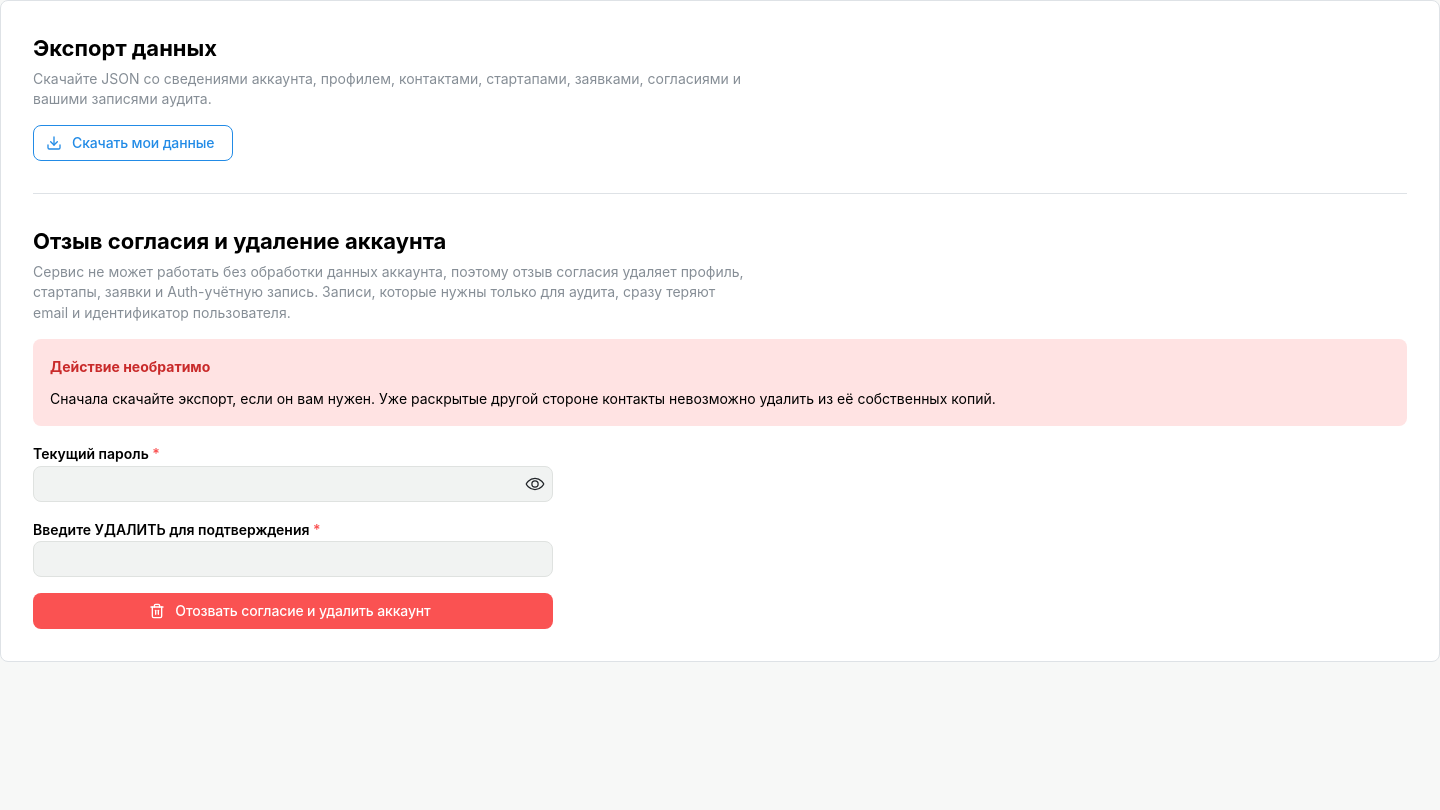
Test: PrivacyControls › offers an export and requires explicit deletion inputs
Type "password-value" into the password field named "current_password" at point(293, 484), box [34,467,552,501]
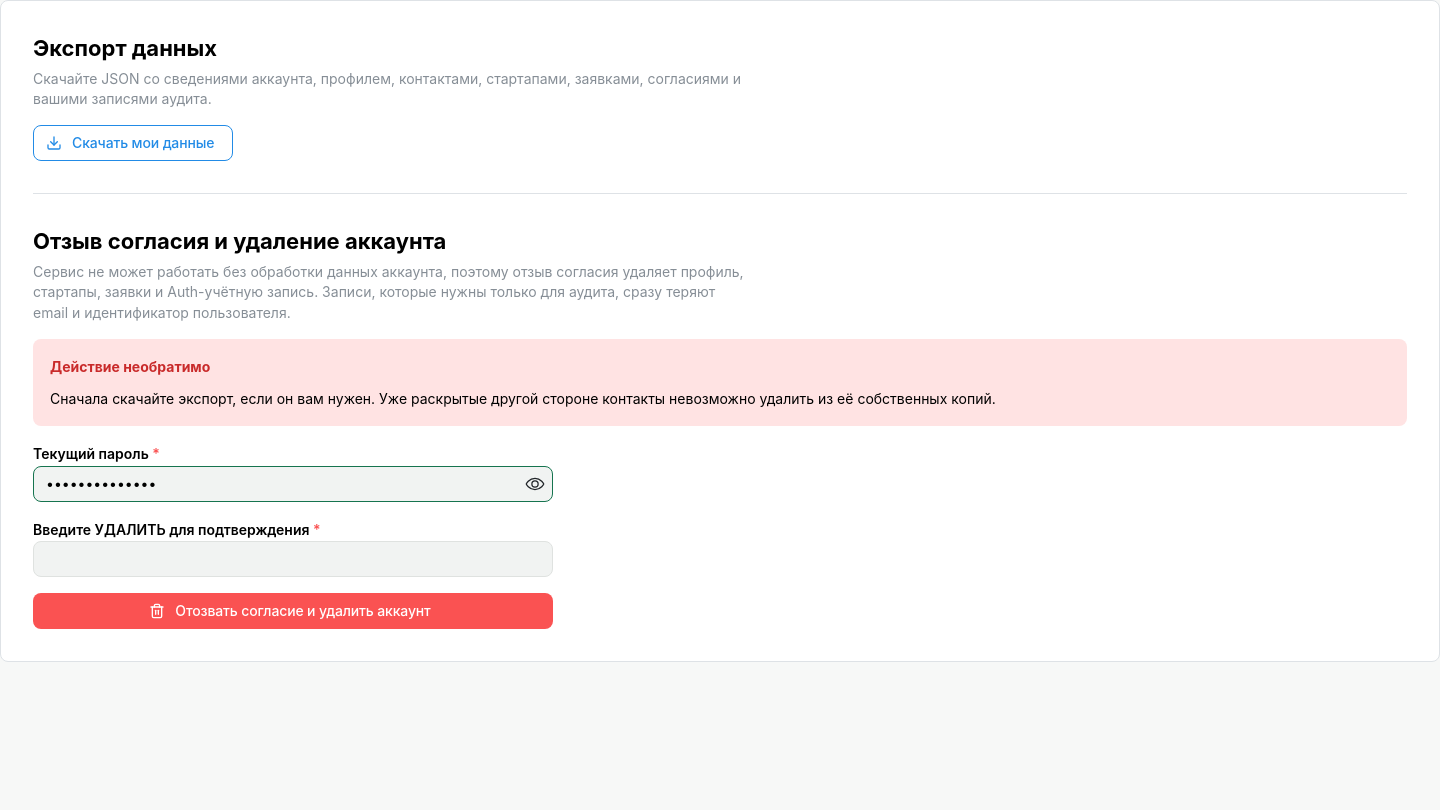
Type "УДАЛИТЬ" into the field labelled "Введите УДАЛИТЬ для подтверждения" at point(293, 559), box [33,541,553,577]
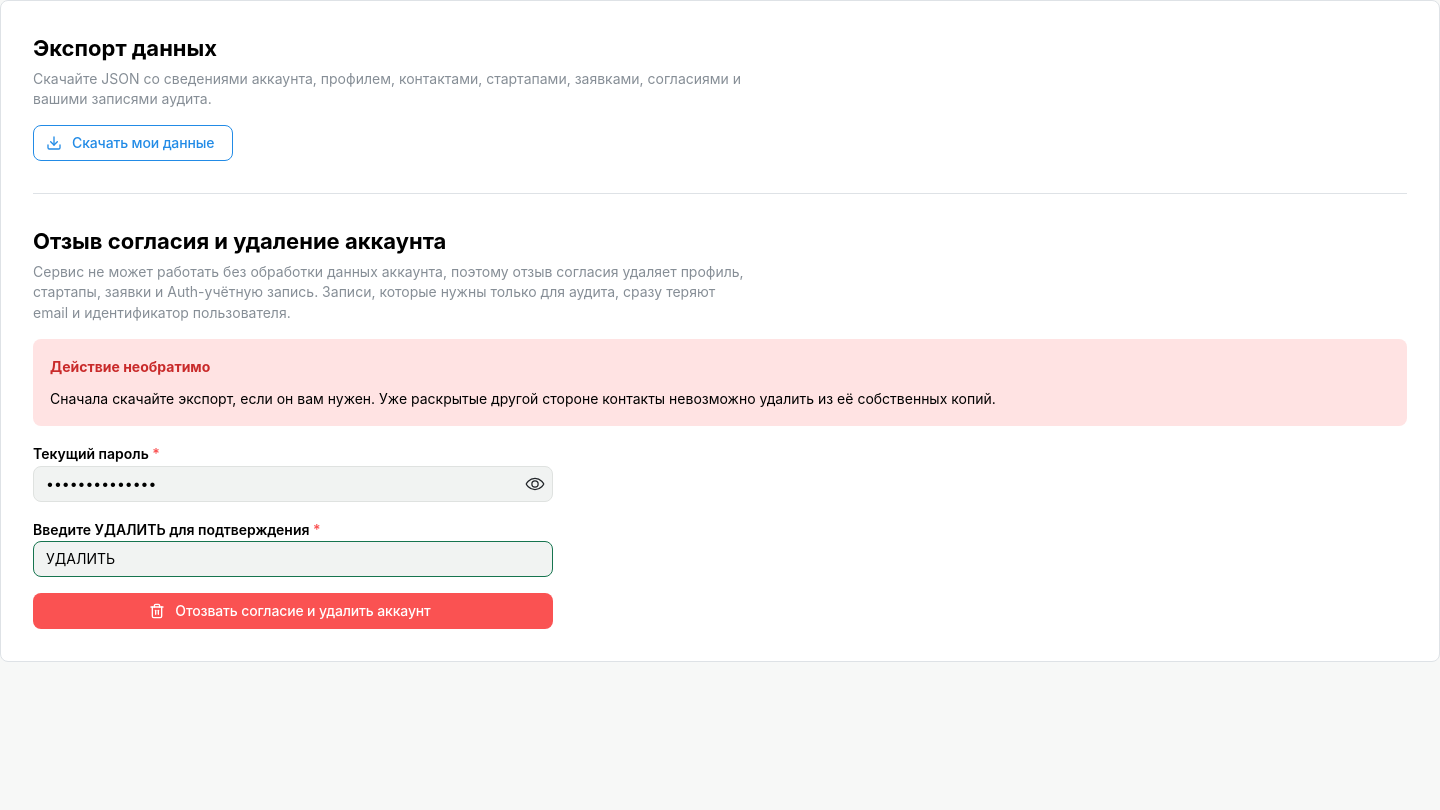
Click the button "Отозвать согласие и удалить аккаунт" at point(293, 611), box [33,593,553,629]
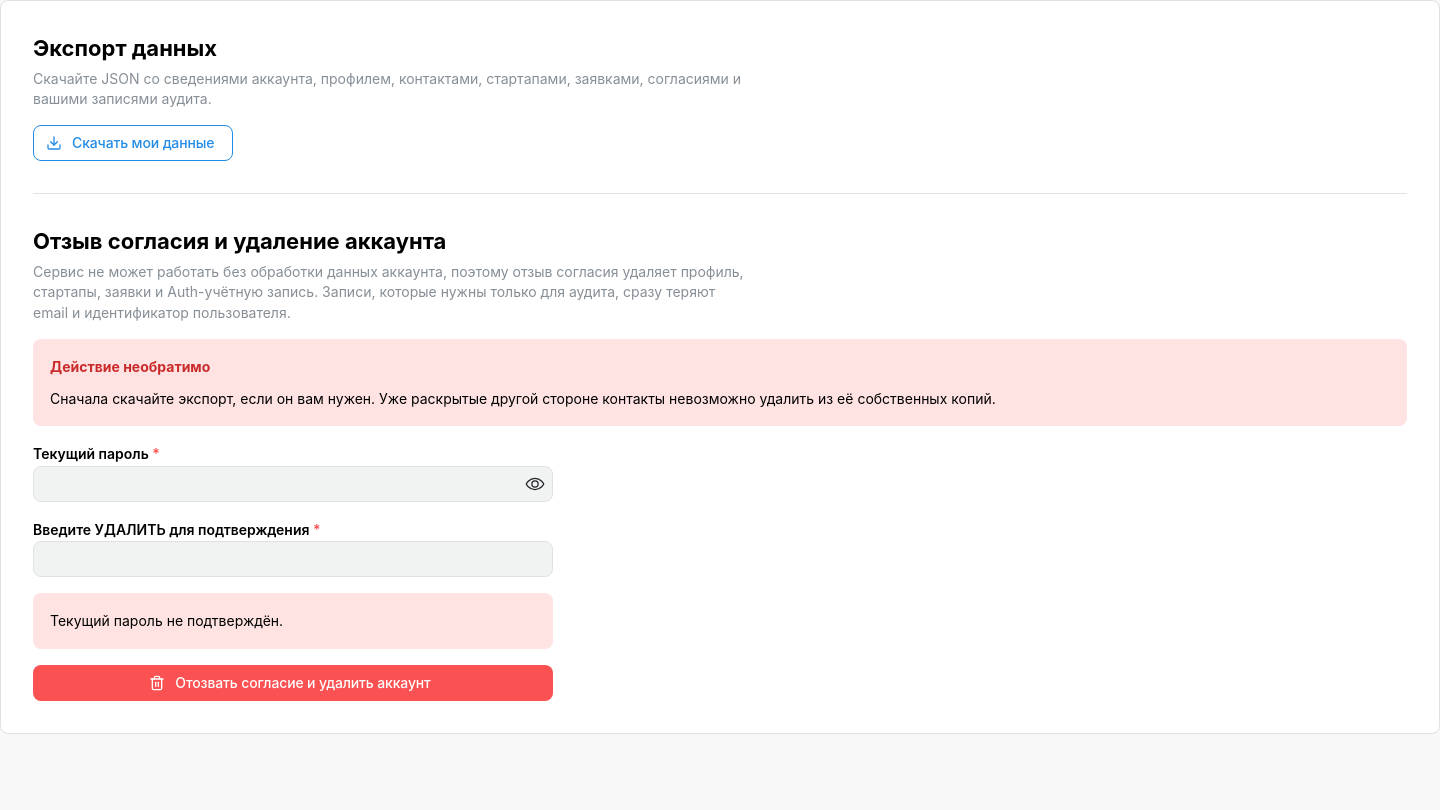
Result: the text "Текущий пароль не подтверждён." is shown at [50,612,283,629]
